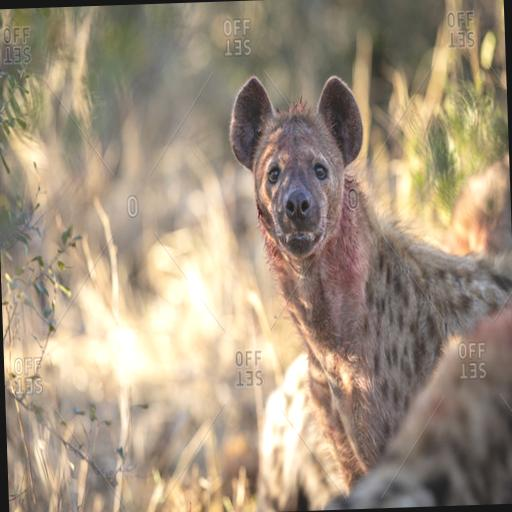hyenas: (165, 63, 512, 512)
